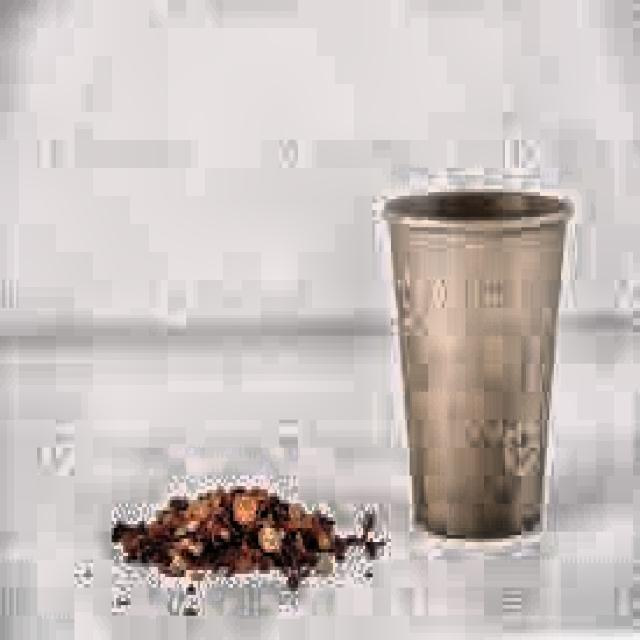Cup: (381, 182, 578, 559)
